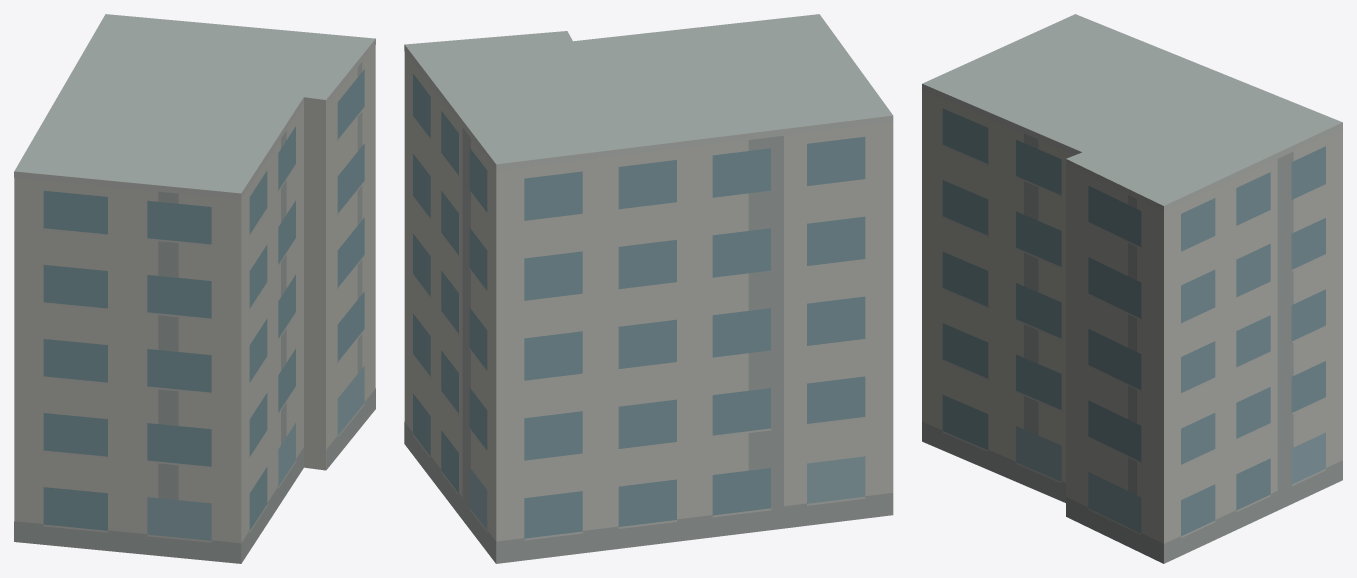
The model's file is survey-upis-32839633.glb.
3 views of the same model, side by side, from view 1: azimuth 30°, elevation 25°; view 2: azimuth 150°, elevation 25°; view 3: azimuth 270°, elevation 25° (orthographic). The views are drawn at different scales.
Parts seen in each view (by area): view 1: survey-upis-32839633.tmp; view 2: survey-upis-32839633.tmp; view 3: survey-upis-32839633.tmp.
Part boxes in pixels (box(x1,y1,x2,y2)): survey-upis-32839633.tmp: box(14, 14, 375, 563); survey-upis-32839633.tmp: box(404, 14, 893, 563); survey-upis-32839633.tmp: box(922, 14, 1342, 563).
Bounding box in the file's own units: 16.64 × 14.45 × 15.4.
